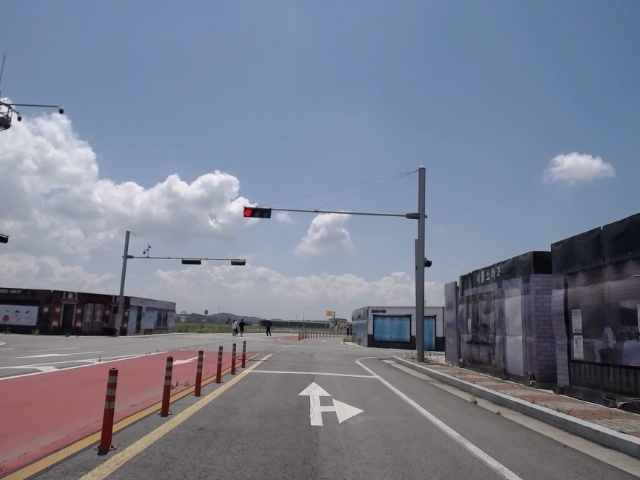red_3: (243, 207, 272, 218)
